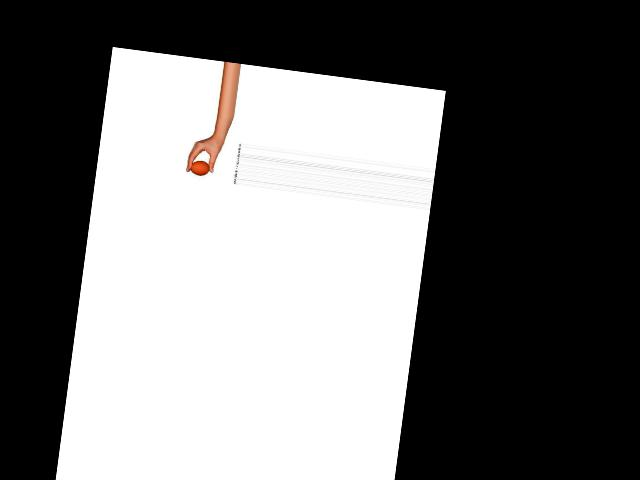egg: (189, 160, 211, 177)
